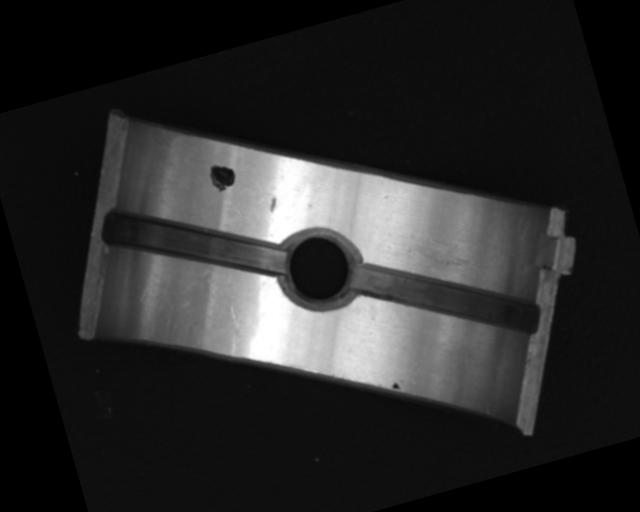blot: (206, 159, 239, 194), (389, 379, 402, 393)
bruise: (215, 302, 251, 358), (265, 194, 278, 213)
gap: (348, 223, 543, 374), (99, 170, 288, 314)
hole: (272, 218, 368, 319)
scratch: (392, 214, 492, 288)
